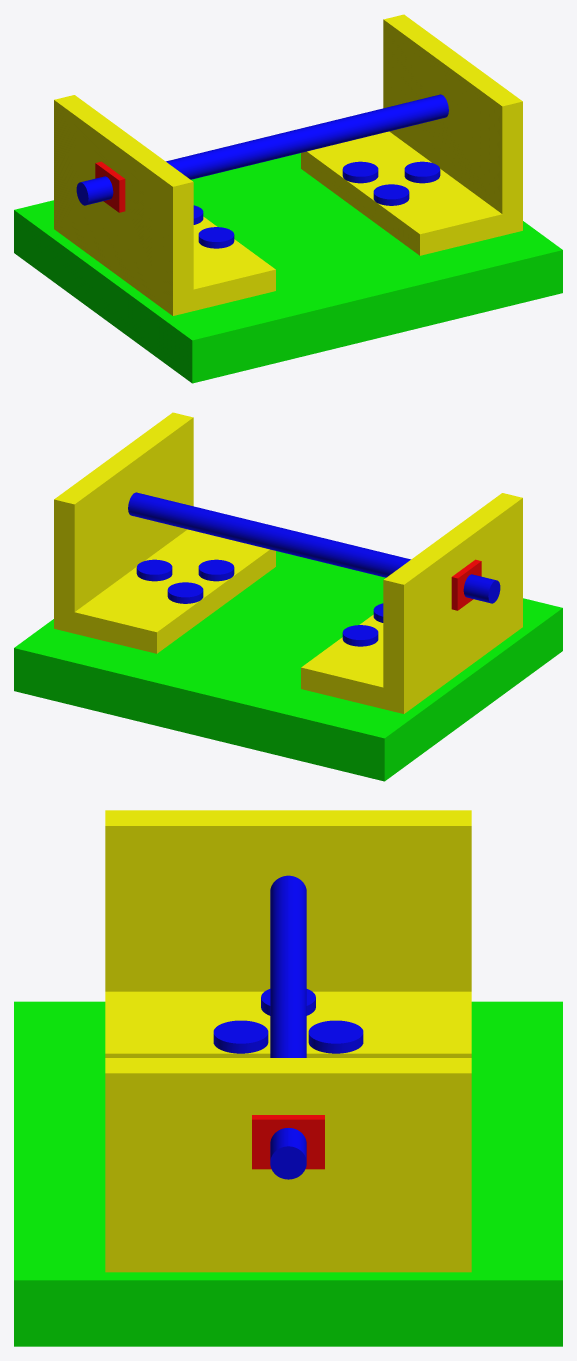
3 views of the same model, one above another, from view 1: azimuth 30°, elevation 25°; view 2: azimuth 150°, elevation 25°; view 3: azimuth 270°, elevation 25° (orthographic). The views are drawn at different scales.
Visible parts, largest first — view 1: SOLID (×9); view 2: SOLID (×9); view 3: SOLID (×7).
Boxes of the visible parts, <box> form: SOLID (×9): <box>14,14,562,383</box>; SOLID (×9): <box>14,412,562,781</box>; SOLID (×7): <box>14,810,562,1346</box>.
Bounding box in the file's own units: 5080 × 2210 × 3810.
